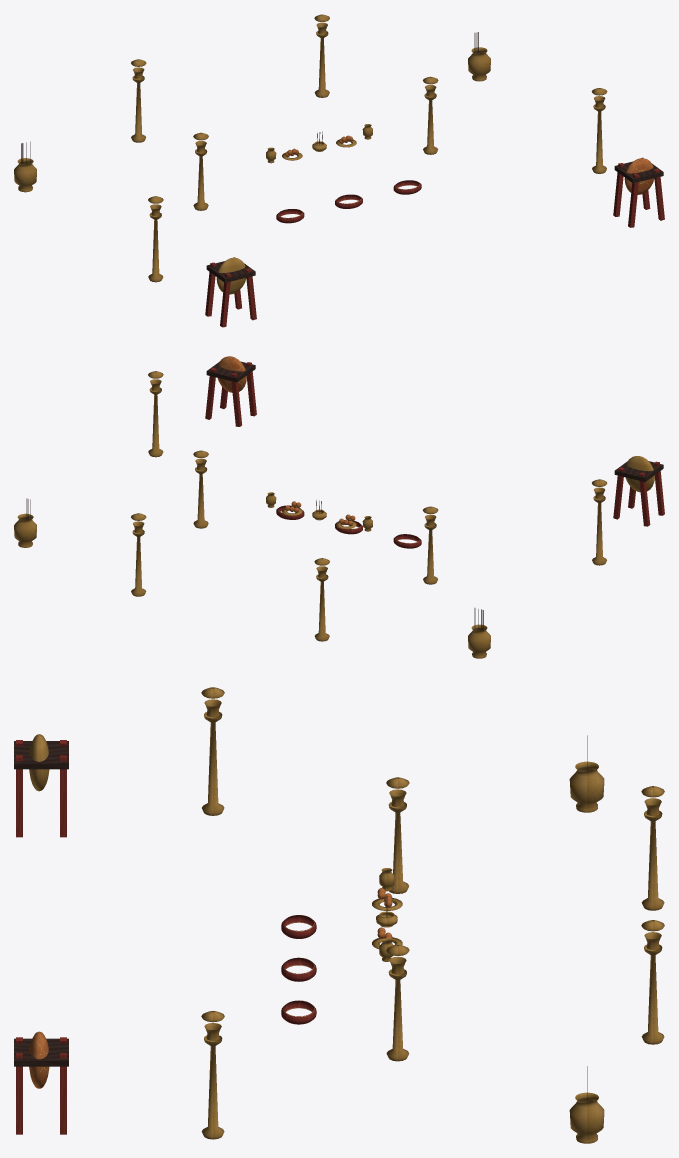
File: hall_props.glb
3 renders of one model, top to bottom at view 1: azimuth 30°, elevation 25°; view 2: azimuth 150°, elevation 25°; view 3: azimuth 270°, elevation 25°, orthographic. The views are drawn at different scales.
Parts seen in each view (by area): view 1: hall_props0; view 2: hall_props0; view 3: hall_props0.
Part boxes in pixels (x1,y1,x2,y2): hall_props0: (14, 14, 664, 327); hall_props0: (14, 356, 664, 658); hall_props0: (14, 687, 664, 1143).
Size of the model in its own units: 18.6 by 3.11 by 14.8.
1 material, 1 textured.
